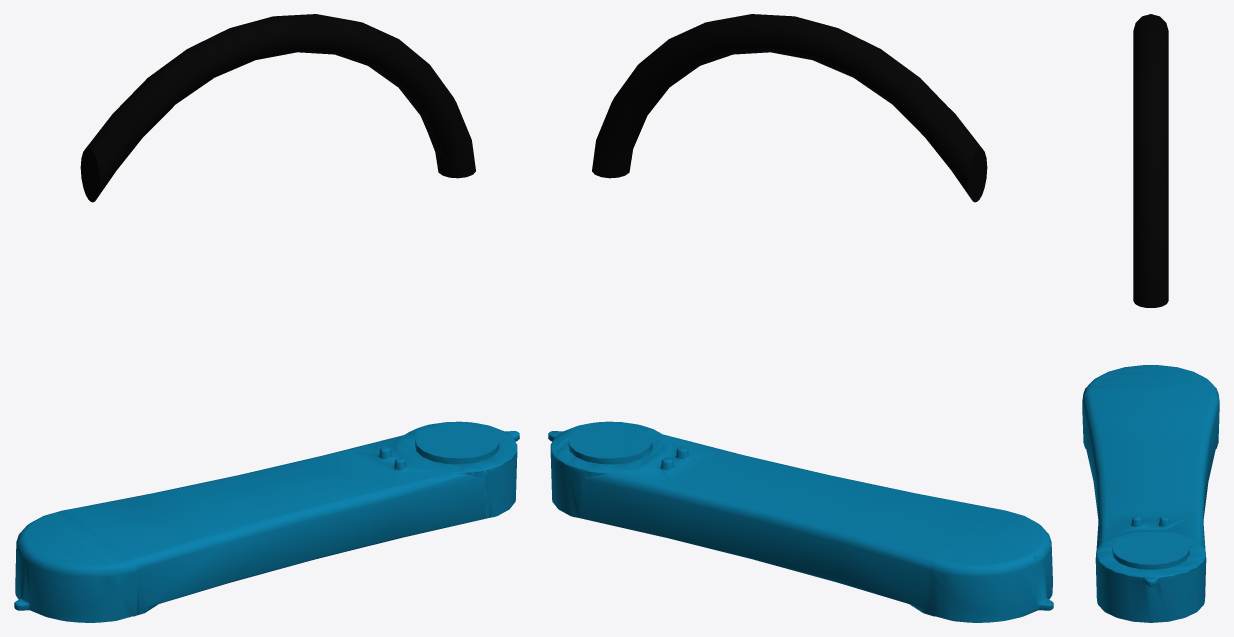
3 views of the same model, side by side, from view 1: azimuth 30°, elevation 25°; view 2: azimuth 150°, elevation 25°; view 3: azimuth 270°, elevation 25° (orthographic). The views are drawn at different scales.
Parts seen in each view (by area): view 1: sg650_lk1; view 2: sg650_lk1; view 3: sg650_lk1.
Boxes of the visible parts, <box> form: sg650_lk1: <box>14,14,519,622</box>; sg650_lk1: <box>548,14,1053,622</box>; sg650_lk1: <box>1082,14,1219,622</box>.
Bounding box in the file's own units: 0.481 × 0.1244 × 0.4856.
